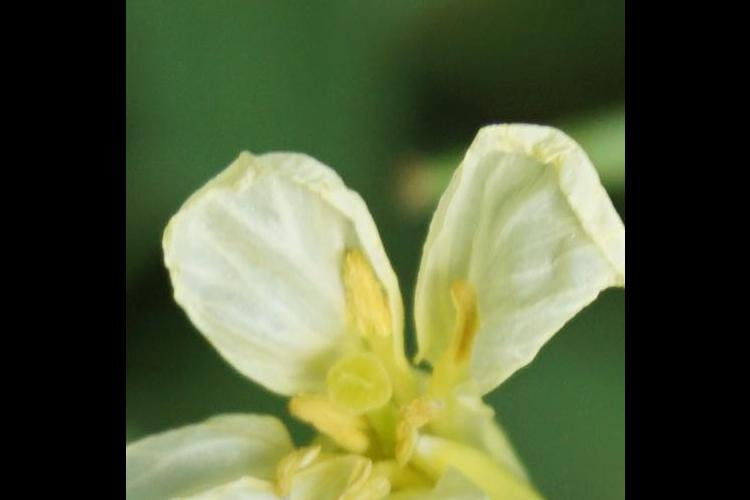white: (139, 114, 604, 500)
